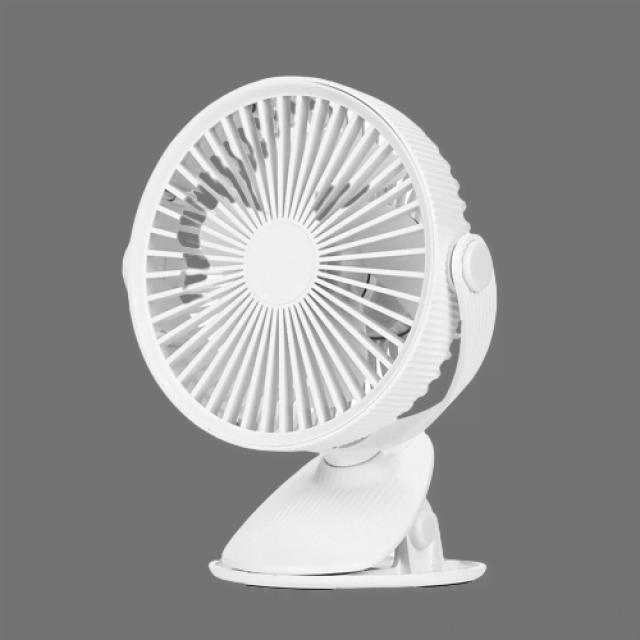fan: (119, 72, 501, 474)
